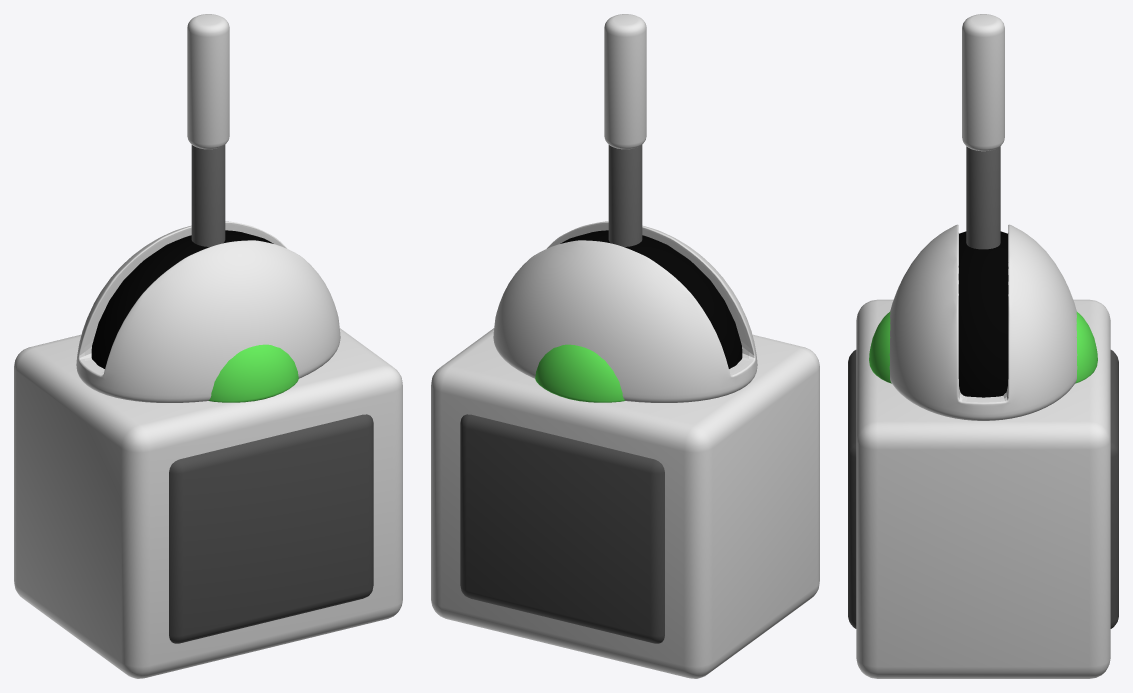
Rendered from lever.fbx.
The picture shows the model from 3 angles, left to right: view 1: azimuth 30°, elevation 25°; view 2: azimuth 150°, elevation 25°; view 3: azimuth 270°, elevation 25°; orthographic projection.
Visible parts, largest first — view 1: Cube, Cube.001, Sphere, Cylinder, Sphere.003, Sphere.001; view 2: Cube, Cube.001, Sphere, Cylinder, Sphere.003, Sphere.002; view 3: Cube, Sphere, Cylinder, Sphere.003, Cube.001, Sphere.001, Sphere.002.
Boxes of the visible parts, box(x1,y1,x2,y2) form: Cube: box(14, 328, 402, 678); Cube.001: box(169, 414, 373, 643); Sphere: box(76, 221, 340, 402); Cylinder: box(187, 14, 229, 246); Sphere.003: box(91, 230, 273, 368); Sphere.001: box(208, 344, 298, 402); Cube: box(431, 328, 819, 678); Cube.001: box(460, 414, 664, 643); Sphere: box(493, 221, 757, 402); Cylinder: box(604, 14, 646, 246); Sphere.003: box(560, 230, 742, 368); Sphere.002: box(535, 344, 625, 402); Cube: box(856, 299, 1110, 678); Sphere: box(889, 224, 1077, 420); Cylinder: box(962, 14, 1004, 249); Sphere.003: box(958, 231, 1008, 397); Cube.001: box(848, 350, 1118, 628); Sphere.001: box(869, 311, 891, 383); Sphere.002: box(1075, 311, 1097, 383).
Bounding box in the file's own units: 225 × 453 × 186.
